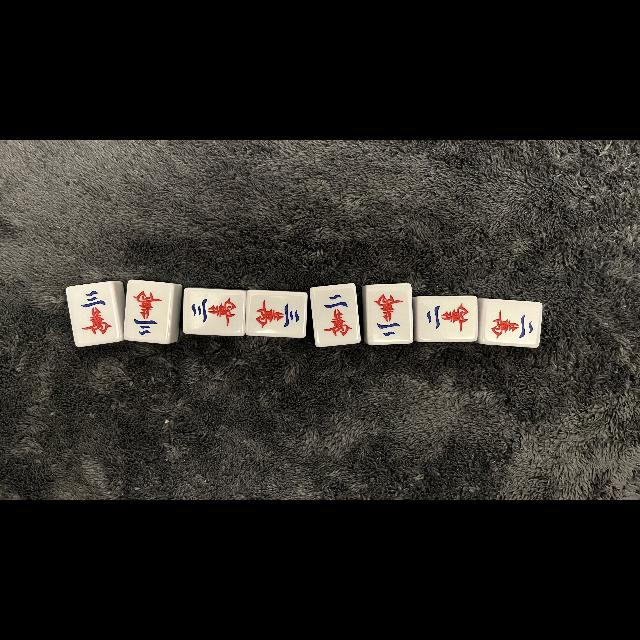c2: (420, 295, 476, 341), (314, 286, 358, 344), (483, 302, 541, 346), (369, 285, 411, 343)
c3: (70, 284, 118, 344), (183, 289, 244, 335), (247, 292, 305, 336), (126, 283, 170, 339)
